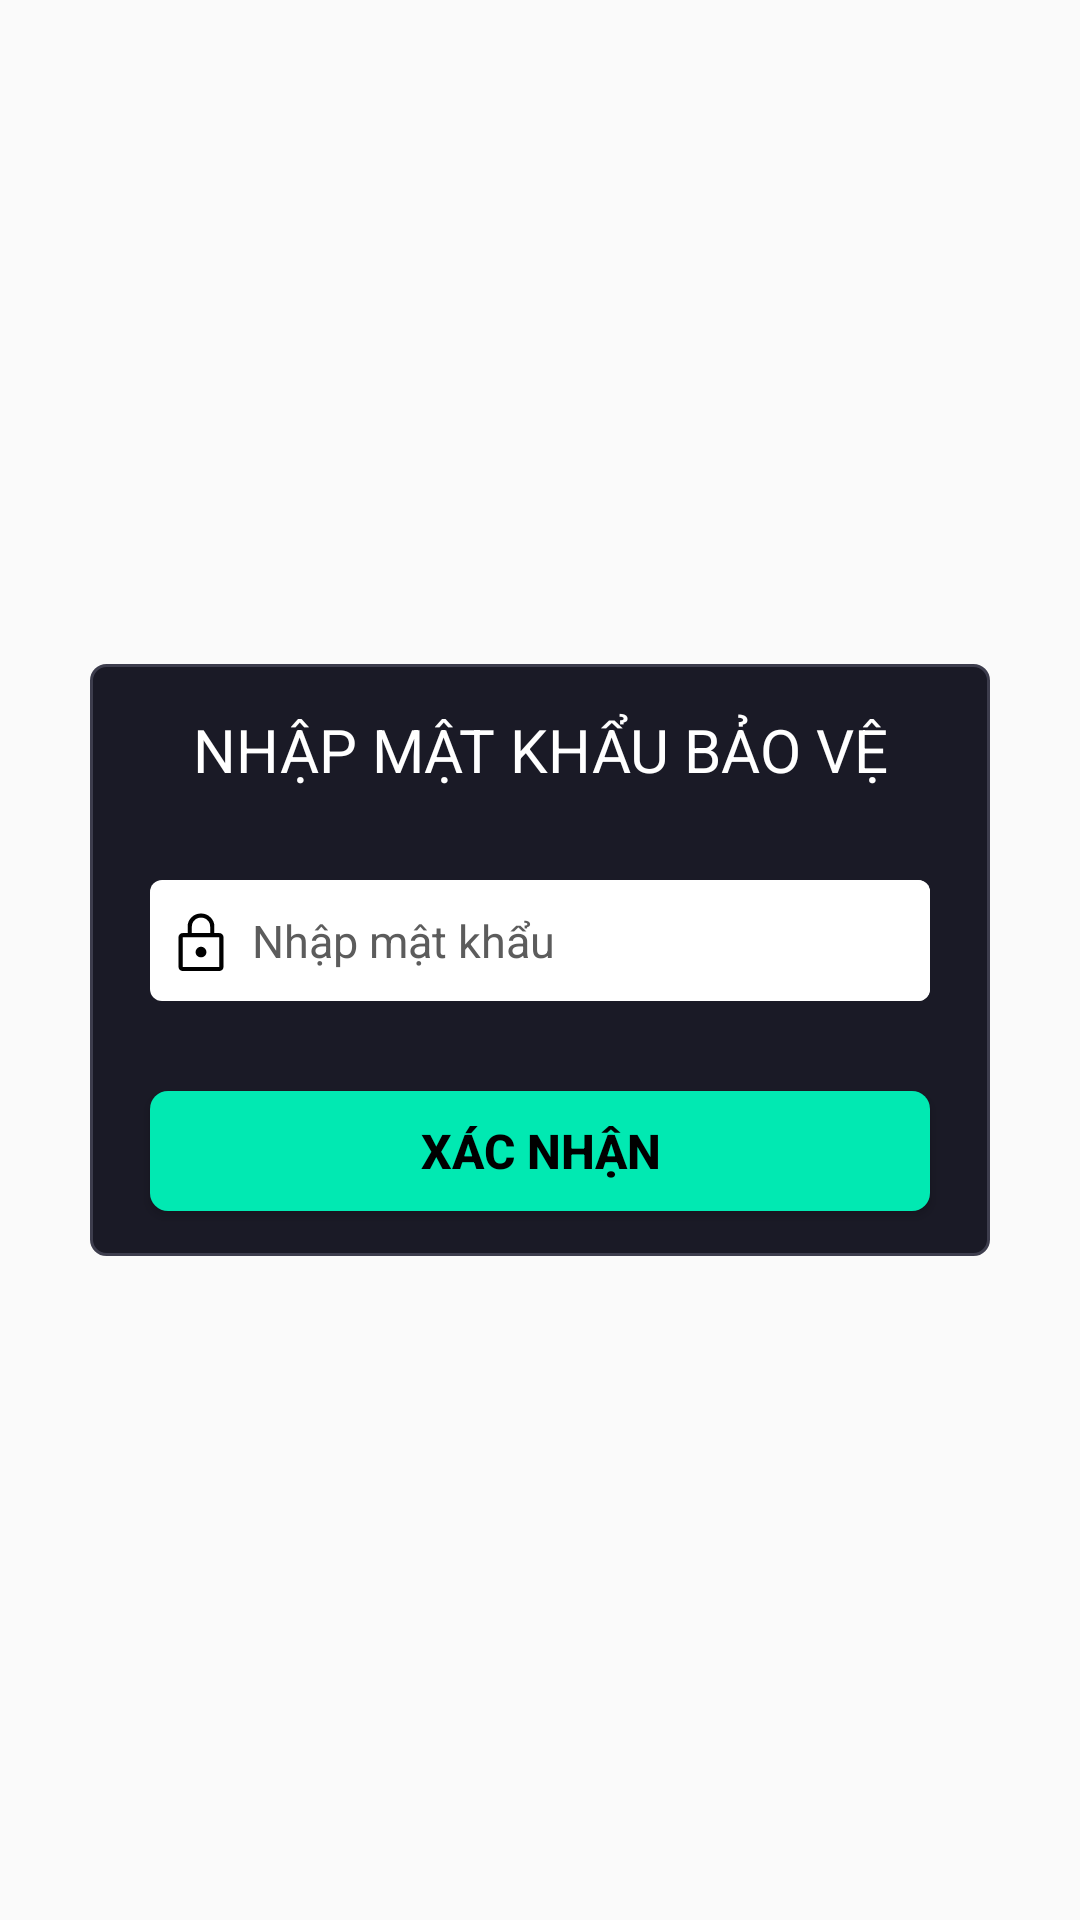

Named icons in this screenshot (1080 × 1920) and their bounding boxes, (x1, y1, x2, y2):
password: (178, 913, 224, 971)
